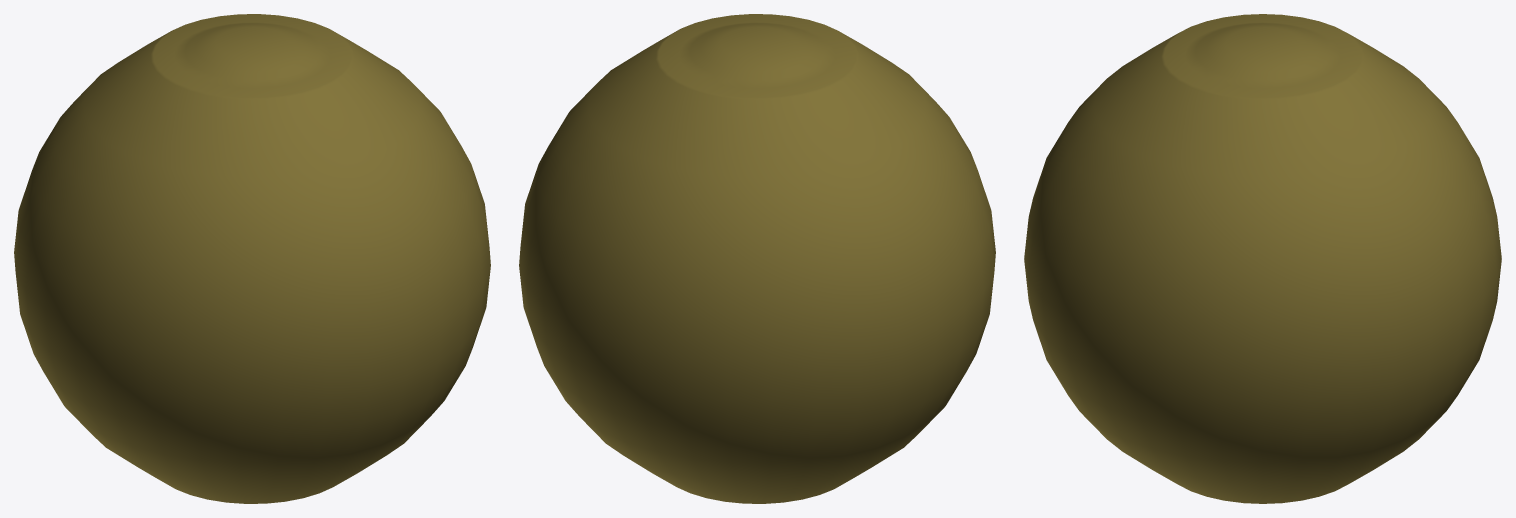
The model's file is neck_top.dae.
3 views of the same model, side by side, from view 1: azimuth 30°, elevation 25°; view 2: azimuth 150°, elevation 25°; view 3: azimuth 270°, elevation 25° (orthographic).
Parts seen in each view (by area): view 1: Sphere; view 2: Sphere; view 3: Sphere.
Part boxes in pixels (box(x1,y1,x2,y2)): Sphere: box(14, 14, 490, 503); Sphere: box(519, 14, 995, 503); Sphere: box(1024, 14, 1501, 503).
Bounding box in the file's own units: 0.434 × 0.434 × 0.434.
